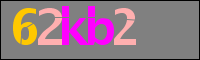2: (115, 7, 141, 48), (38, 8, 62, 45)
6: (12, 7, 37, 47)
b: (88, 5, 114, 47)
k: (61, 5, 87, 46)
